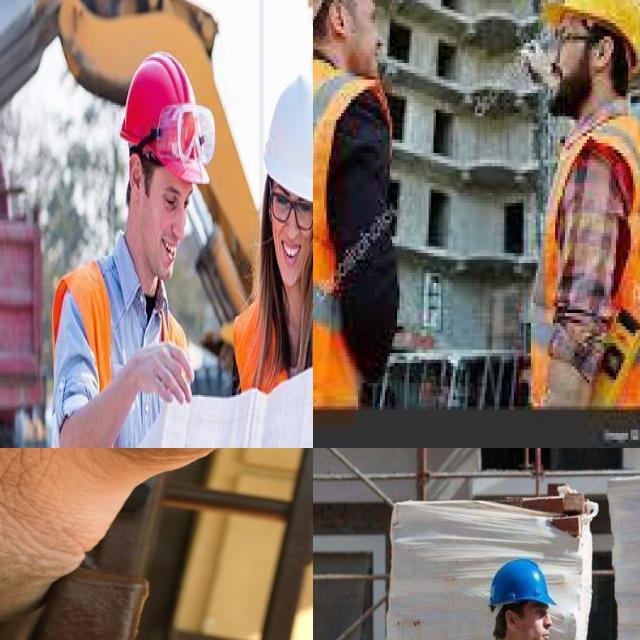Barefoots: (0, 448, 313, 622)
No_Ear-Protection: (126, 150, 144, 208)
No_Glasses: (160, 177, 197, 220)
face_nomask: (133, 146, 191, 284), (264, 176, 312, 296), (324, 0, 392, 83), (541, 20, 599, 113), (520, 603, 554, 640)
glasses: (154, 100, 221, 168), (268, 189, 313, 237)
hand_glove: (516, 36, 558, 100)
hand_noglove: (125, 342, 193, 431)
head_helmet: (112, 40, 217, 187), (260, 77, 313, 206), (477, 552, 561, 616), (550, 0, 640, 56)
person: (45, 0, 219, 448), (516, 0, 640, 399), (227, 0, 313, 448), (313, 0, 404, 399), (436, 555, 563, 640)
vest: (531, 119, 640, 393), (50, 244, 195, 448), (313, 76, 372, 396), (235, 273, 313, 448)
